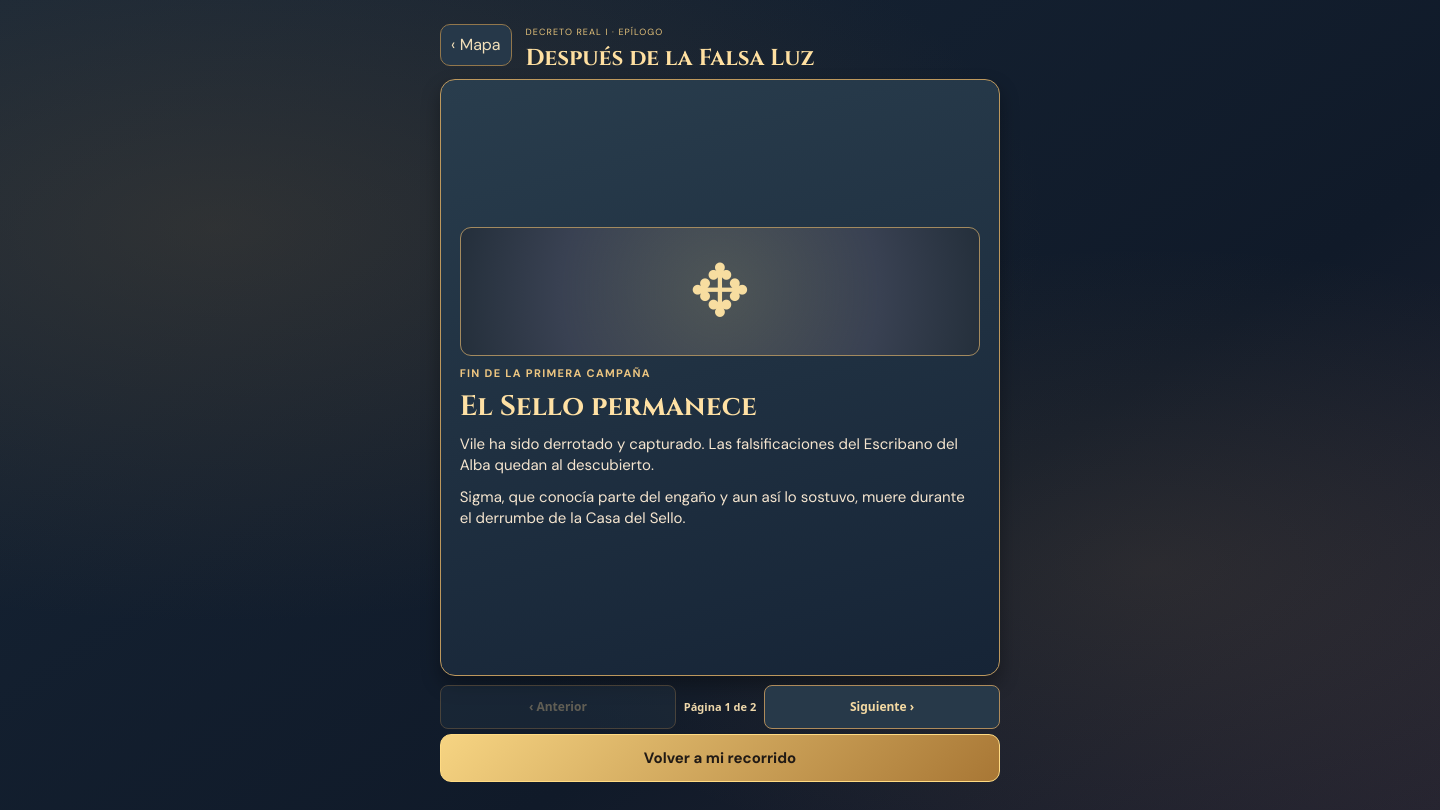
Test case: the final mission victory reveals the canonical ending
Check: the heading "El Sello permanece" is shown, box [460, 388, 757, 425]
Check: the text "Sigma, que conocía parte del engaño" is shown, box [460, 487, 965, 528]
Click the button "Siguiente ›". click: coordinates (882, 706)
box: [764, 684, 1000, 728]
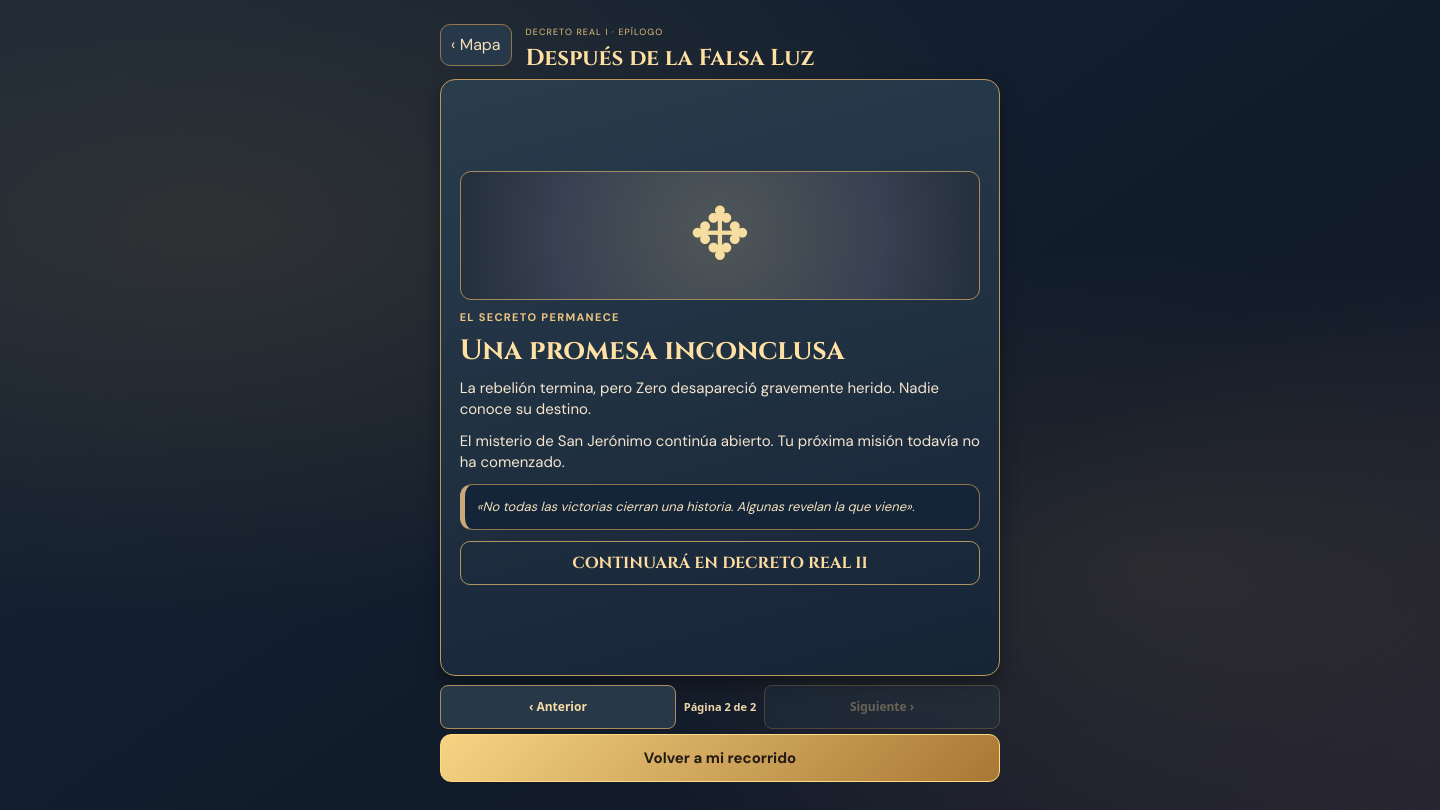
Check: the text "Zero desapareció gravemente herido" is shown, box [460, 378, 939, 419]
